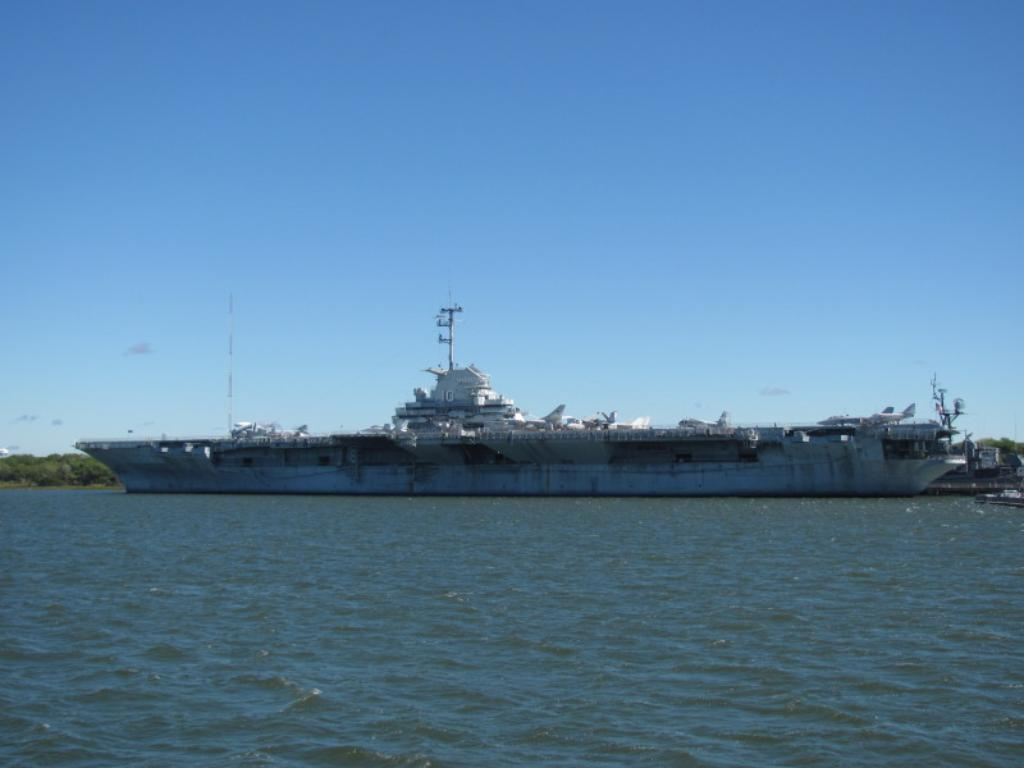Warship: (69, 274, 979, 502)
